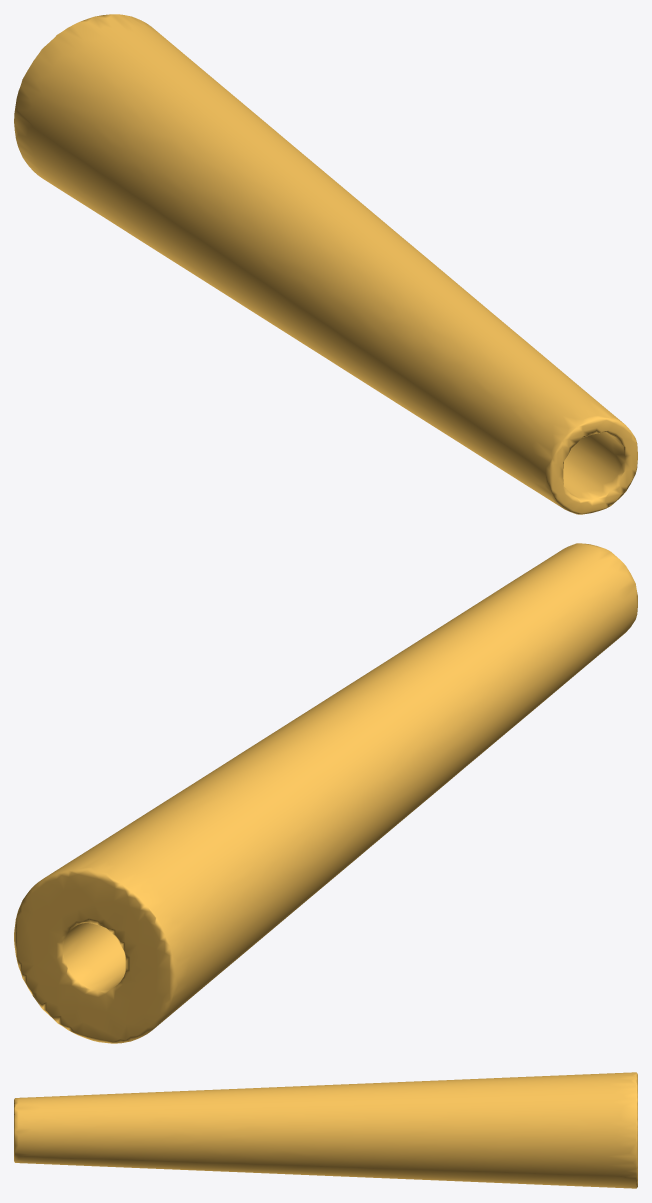
File: Golden_MouthPiece.obj
3 views of the same model, one above another, from view 1: azimuth 30°, elevation 25°; view 2: azimuth 150°, elevation 25°; view 3: azimuth 270°, elevation 25° (orthographic). The views are drawn at different scales.
Visible parts, largest first — view 1: default; view 2: default; view 3: default.
Boxes of the visible parts, left/top/right/bottom form: default: left=14, top=14, right=637, bottom=514; default: left=14, top=543, right=637, bottom=1043; default: left=14, top=1072, right=637, bottom=1188.
Bounding box in the file's own units: 7.36 × 7.36 × 39.47.
Materials: 1 (1 with a texture image).
